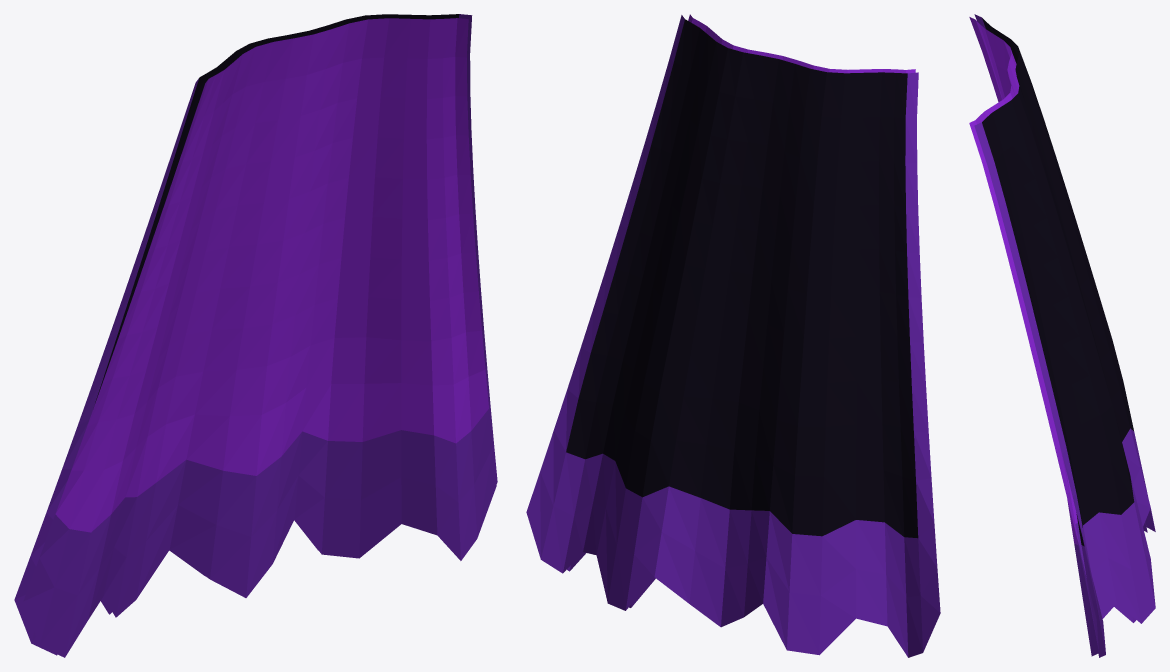
File: Skin_ReaperCloak.obj
3 renders of one model, left to right at view 1: azimuth 30°, elevation 25°; view 2: azimuth 150°, elevation 25°; view 3: azimuth 270°, elevation 25°, orthographic. The views are drawn at different scales.
Visible parts, largest first — view 1: Skin_ReaperCloak_EmissiveCore, Skin_ReaperCloak_TrimMetal, Skin_ReaperCloak_BaseArmor; view 2: Skin_ReaperCloak_BaseArmor, Skin_ReaperCloak_TrimMetal, Skin_ReaperCloak_EmissiveCore; view 3: Skin_ReaperCloak_BaseArmor, Skin_ReaperCloak_TrimMetal, Skin_ReaperCloak_EmissiveCore.
Part boxes in pixels (x1,y1,x2,y2): Skin_ReaperCloak_EmissiveCore: (55,18,488,532); Skin_ReaperCloak_TrimMetal: (14,14,497,657); Skin_ReaperCloak_BaseArmor: (95,14,459,403); Skin_ReaperCloak_BaseArmor: (566,19,918,538); Skin_ReaperCloak_TrimMetal: (526,15,940,657); Skin_ReaperCloak_EmissiveCore: (688,14,915,73); Skin_ReaperCloak_BaseArmor: (982,18,1134,546); Skin_ReaperCloak_TrimMetal: (974,14,1155,657); Skin_ReaperCloak_EmissiveCore: (969,17,1079,544).
Bounding box in the file's own units: 1.25 × 1.52 × 0.5062.
